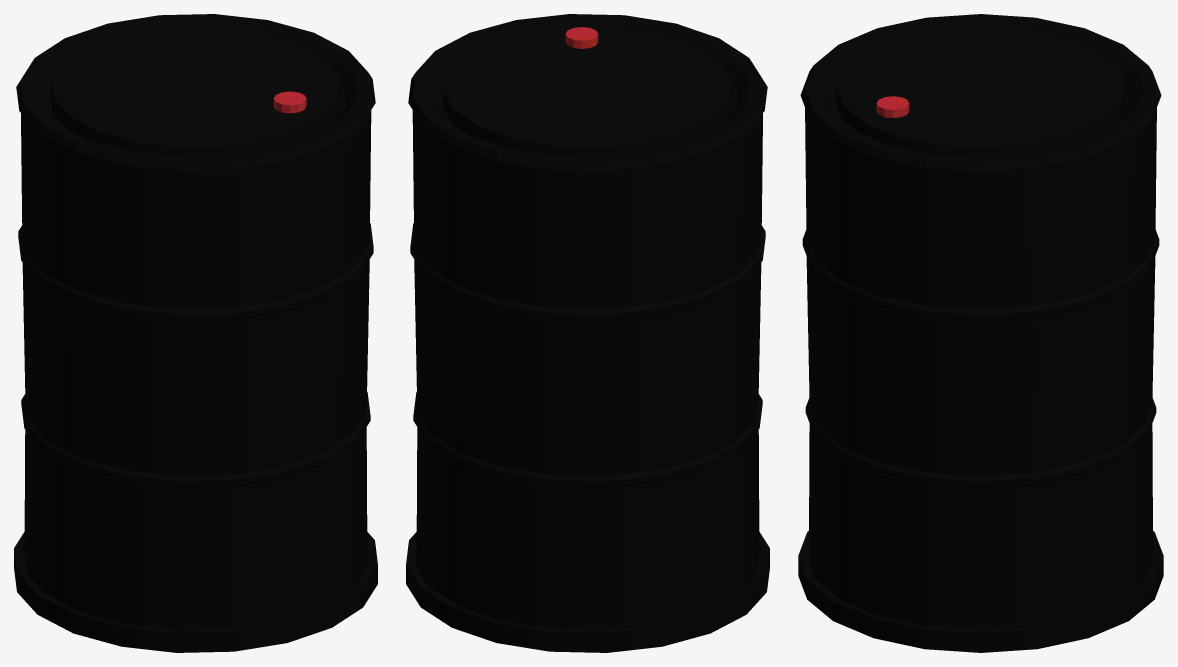
Rendered from Black_Oil_Barrel.glb.
3 renders of one model, left to right at view 1: azimuth 30°, elevation 25°; view 2: azimuth 150°, elevation 25°; view 3: azimuth 270°, elevation 25°, orthographic.
Visible parts, largest first — view 1: black_oil_barrel; view 2: black_oil_barrel; view 3: black_oil_barrel.
Part boxes in pixels (left/top/right/bottom): black_oil_barrel: left=14, top=14, right=377, bottom=652; black_oil_barrel: left=406, top=14, right=769, bottom=652; black_oil_barrel: left=798, top=14, right=1163, bottom=652.
Size of what is drawn, in the model's own units: 0.7776 by 1.17 by 0.7776.
1 material, 1 textured.
